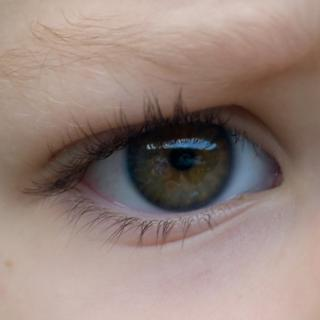pupil: (169, 143, 196, 170)
